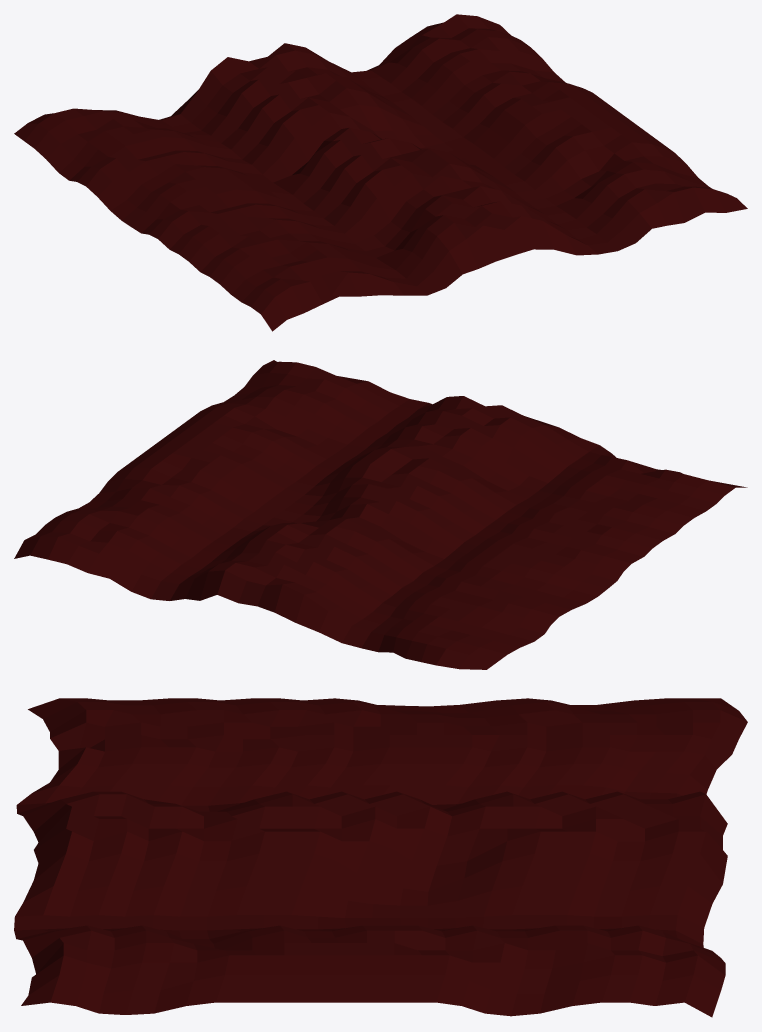
The model's file is Tilled Ground.fbx.
3 views of the same model, one above another, from view 1: azimuth 30°, elevation 25°; view 2: azimuth 150°, elevation 25°; view 3: azimuth 270°, elevation 25° (orthographic). The views are drawn at different scales.
Visible parts, largest first — view 1: Ground; view 2: Ground; view 3: Ground.
Boxes of the visible parts, bbox=[...] form: Ground: bbox=[14, 14, 747, 331]; Ground: bbox=[14, 360, 747, 669]; Ground: bbox=[14, 698, 747, 1017].
Size of the model in its own units: 100 by 9.62 by 100.
